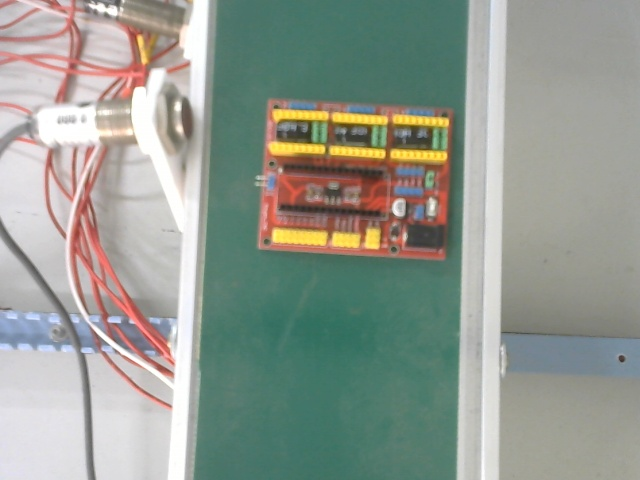IC: (312, 178, 356, 206)
capacitor: (329, 116, 374, 148), (391, 120, 434, 149), (274, 116, 315, 142), (385, 196, 412, 219)
connector: (269, 223, 382, 252), (401, 221, 452, 252)
